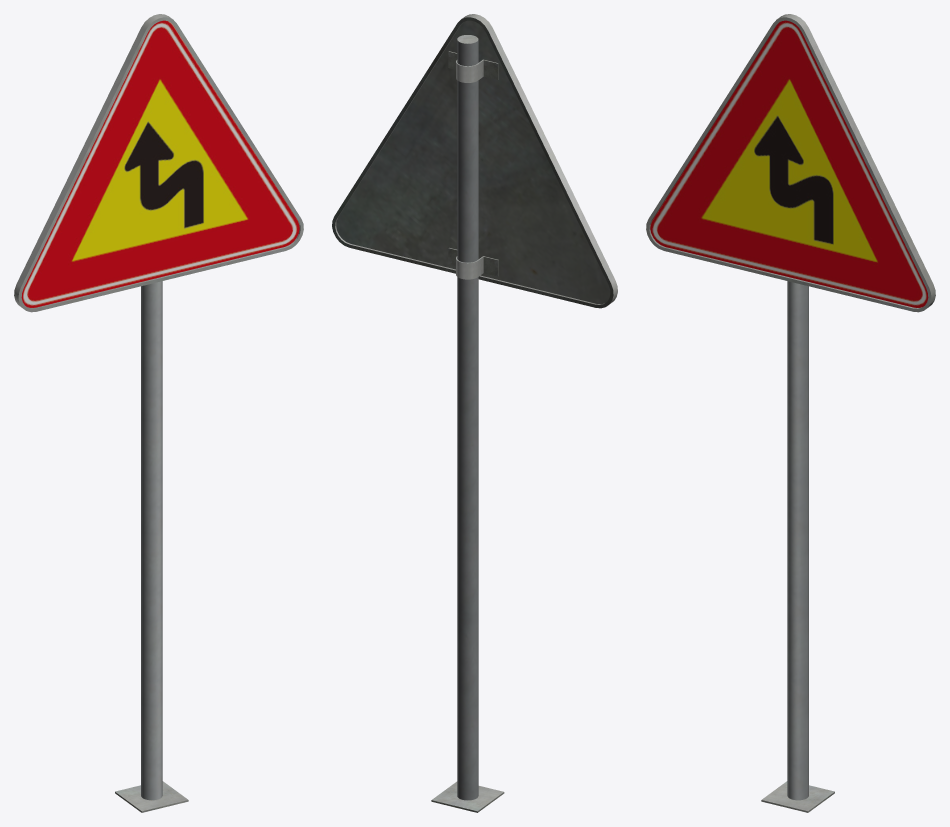
3 renders of one model, left to right at view 1: azimuth 30°, elevation 25°; view 2: azimuth 150°, elevation 25°; view 3: azimuth 330°, elevation 25°, orthographic.
Parts seen in each view (by area): view 1: MainBuilding; view 2: MainBuilding; view 3: MainBuilding.
Part boxes in pixels (<box>): MainBuilding: <box>14,14,303,812</box>; MainBuilding: <box>332,14,617,812</box>; MainBuilding: <box>646,14,935,812</box>.
Size of the model in its own units: 0.9151 by 2.41 by 0.15.
1 material, 1 textured.
